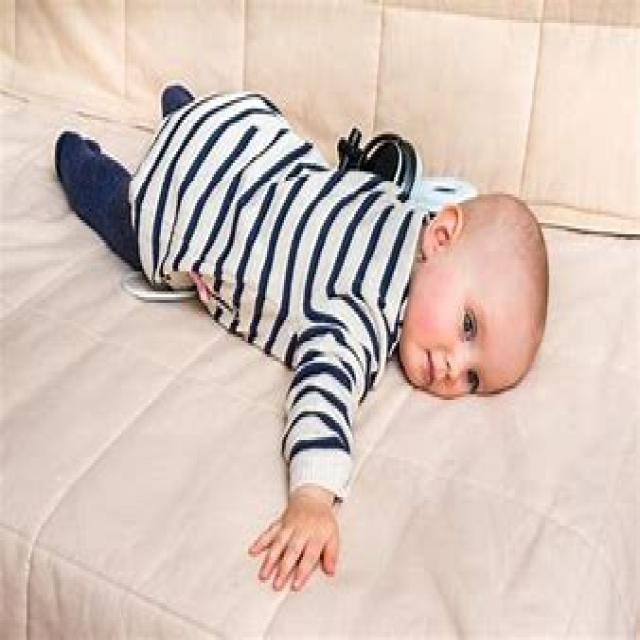lie: (60, 70, 559, 394)
